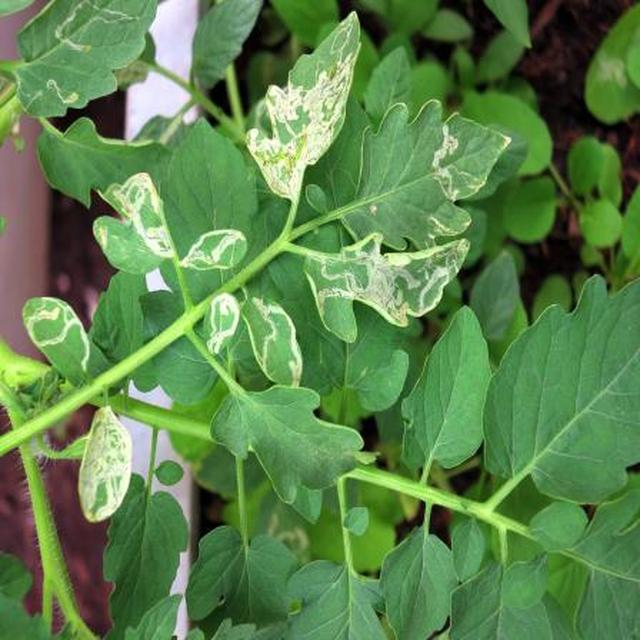Leaf Miner: (81, 66, 640, 640)
